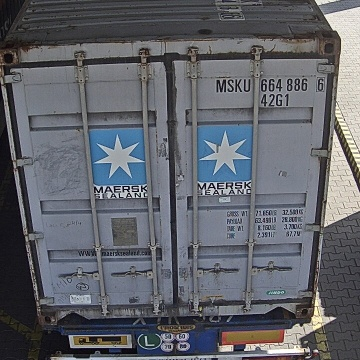serial_id: (216, 78, 325, 92)
